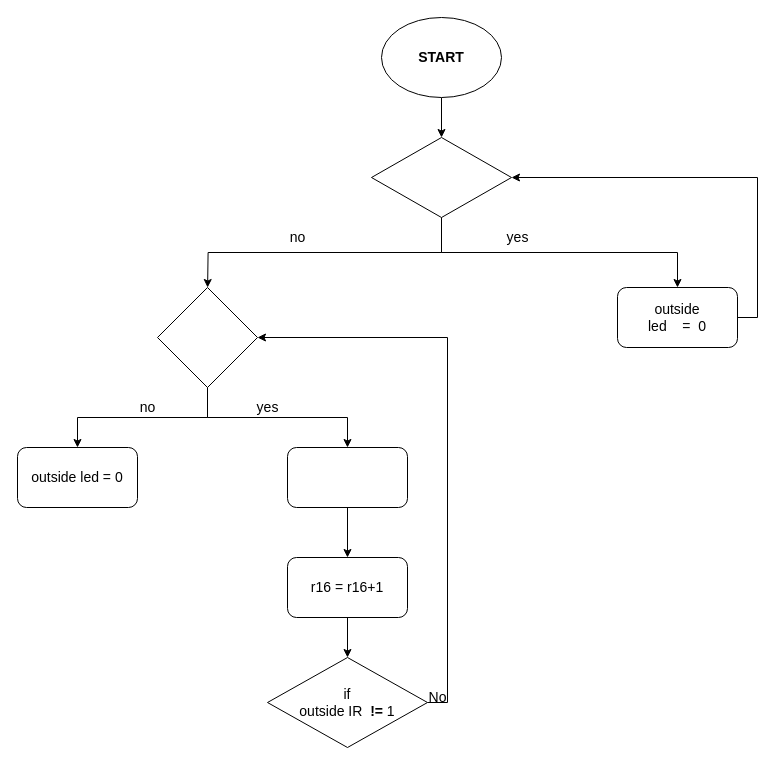
Some shapes in this 783 by 765 pixel diagram are drawn without their labels. Here are the shapes that lost their labels. From the top down, the centre of each, then its label:
At [441,177]: "if LDR = 1".
At [207,337]: "Outside IR = 1".
At [347,477]: "outside led = 1".
